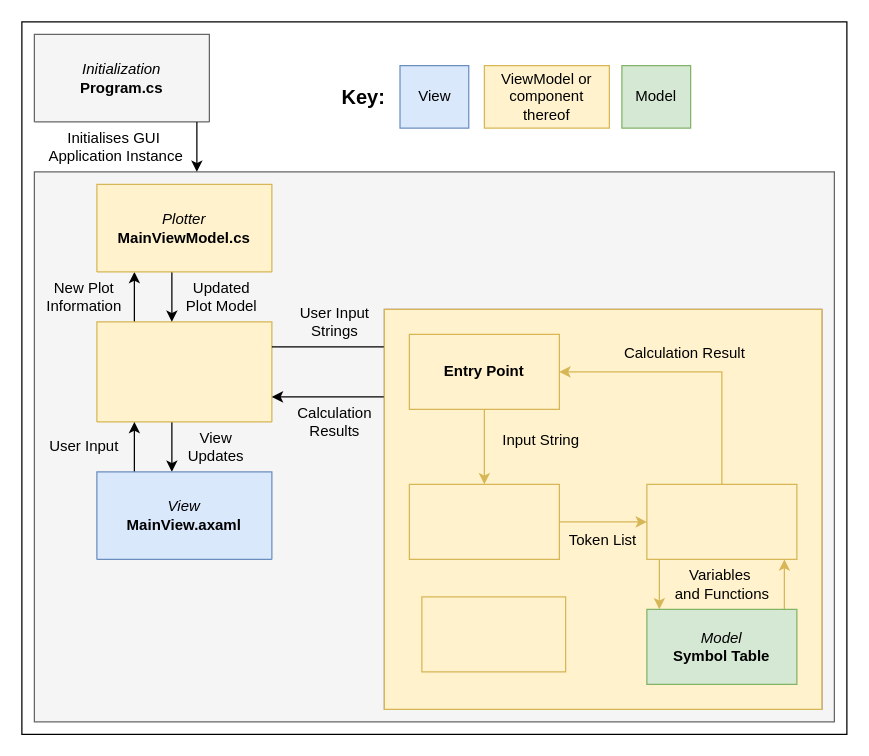
The diagram is 869 pixels wide and 756 high, and some of its shapes have lost their labels. Here are the shapes that lost their labels. From the top down, the centre of each, then its label:
point 184,371: ViewModel MainView.axaml.cs
point 483,521: Lexer
point 721,521: Parser
point 493,634: Interpreter Program .fs
